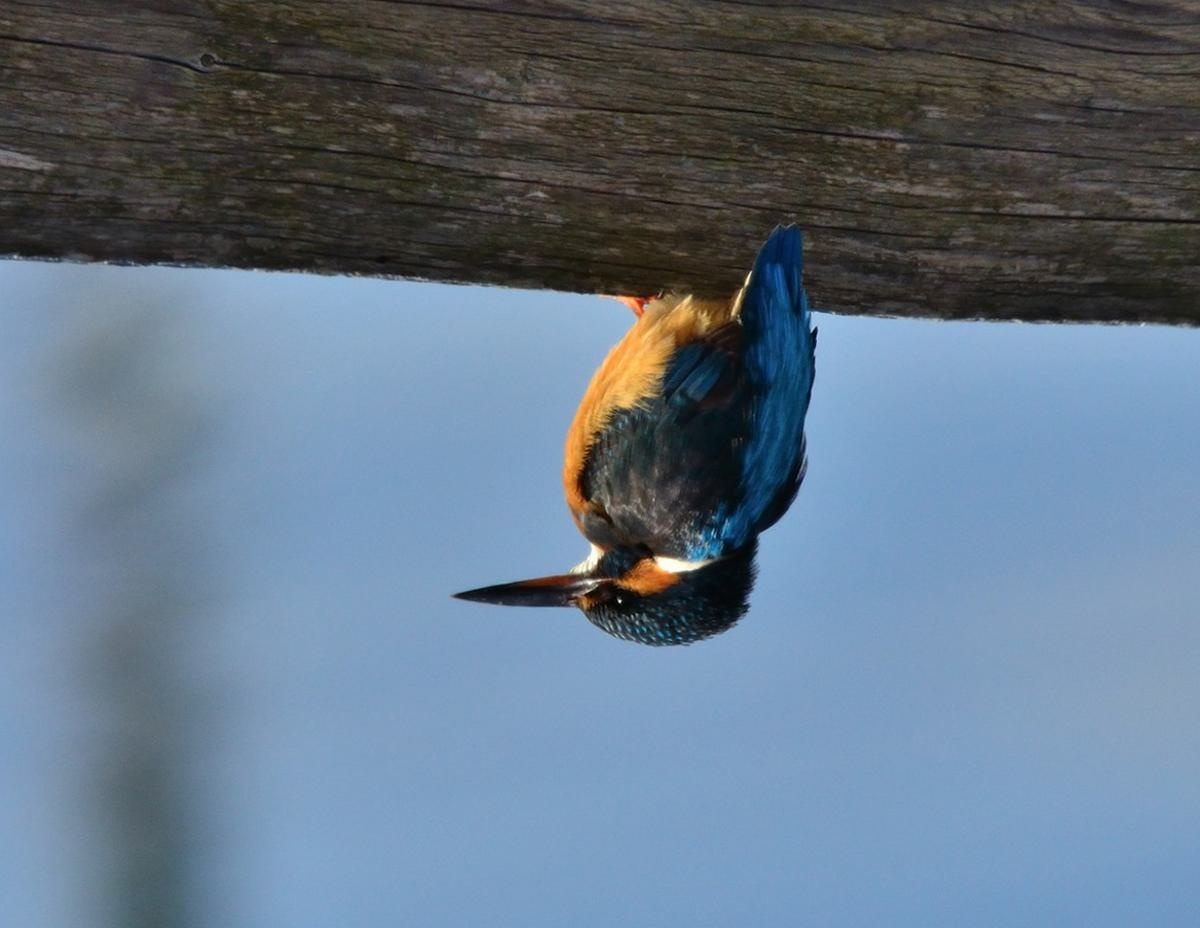kingfisher: (456, 227, 887, 656)
